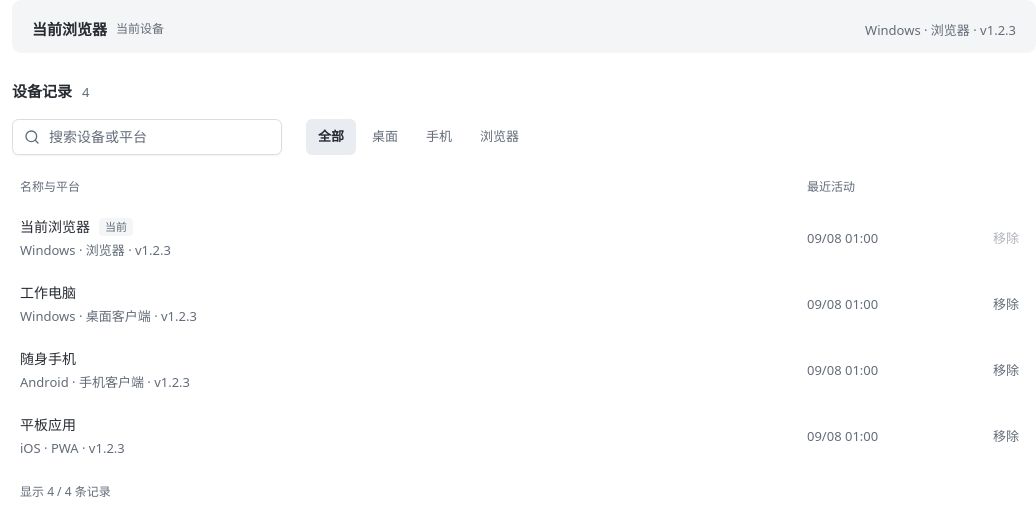
Test: ClientDevicesSettings › filters by actual runtime type and searches platform text with an empty-state reset
Click the button "桌面": (385, 137) [360,119,410,155]
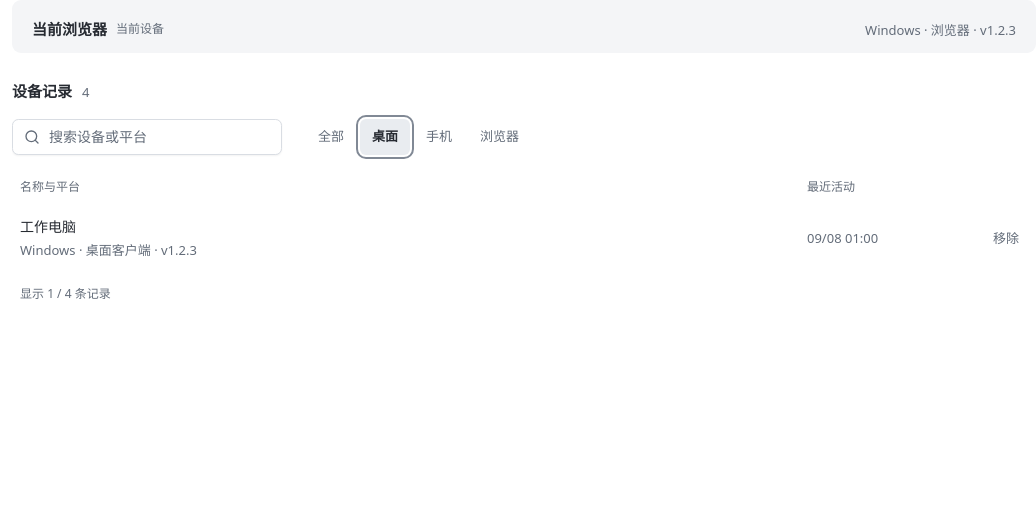
Expected: the text "工作电脑" is shown, [20,216,76,237]
Expected: the number of list items is 1, [12,206,1035,272]
Click the button "手机": (439, 137) [414,119,464,155]
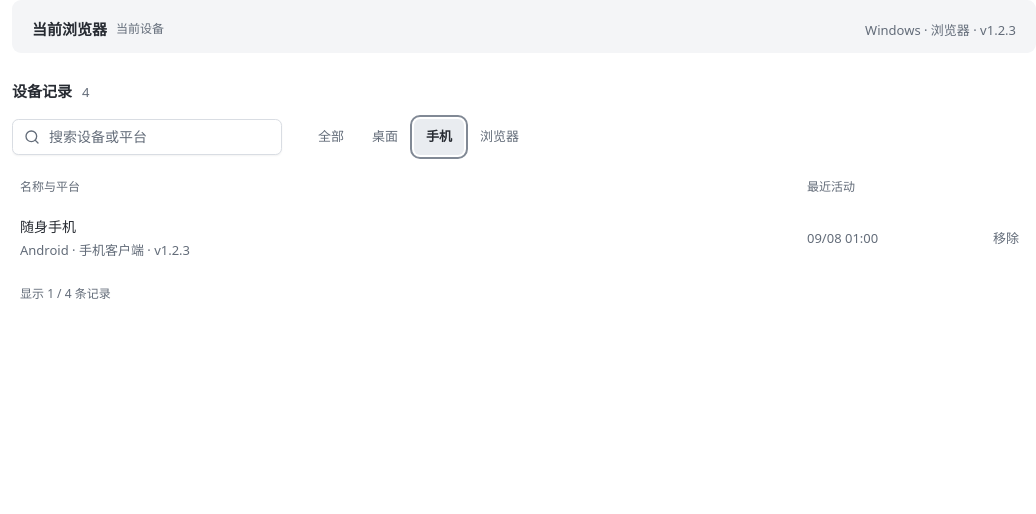
Expected: the number of list items is 1, [12,206,1035,272]
Expected: the text "随身手机" is shown, [20,216,76,237]
Click the button "浏览器": (500, 137) [468,119,531,155]
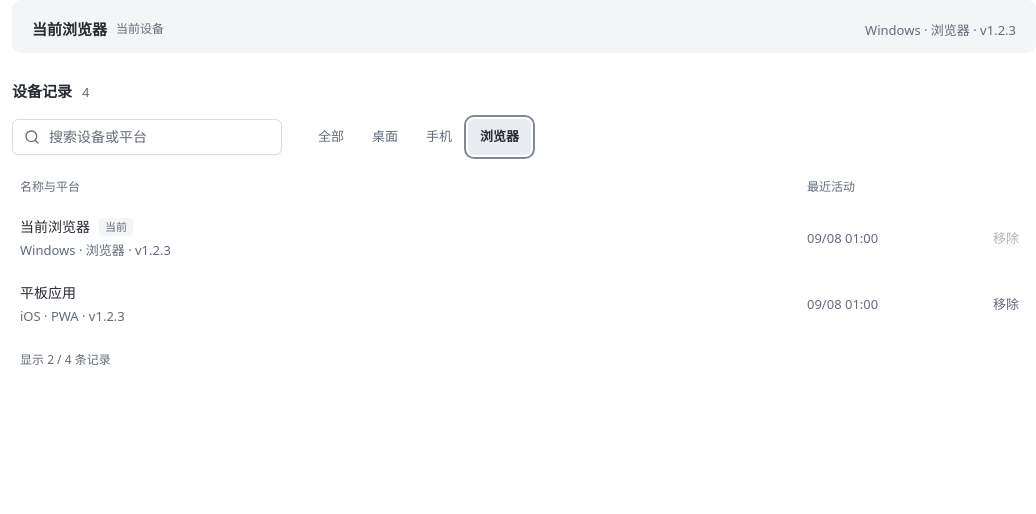
Expected: the number of list items is 2, [12,206,1035,272]; [12,272,1035,338]
In the search field named "搜索设备记录": (147, 137) [12,119,282,155], type "iOS"
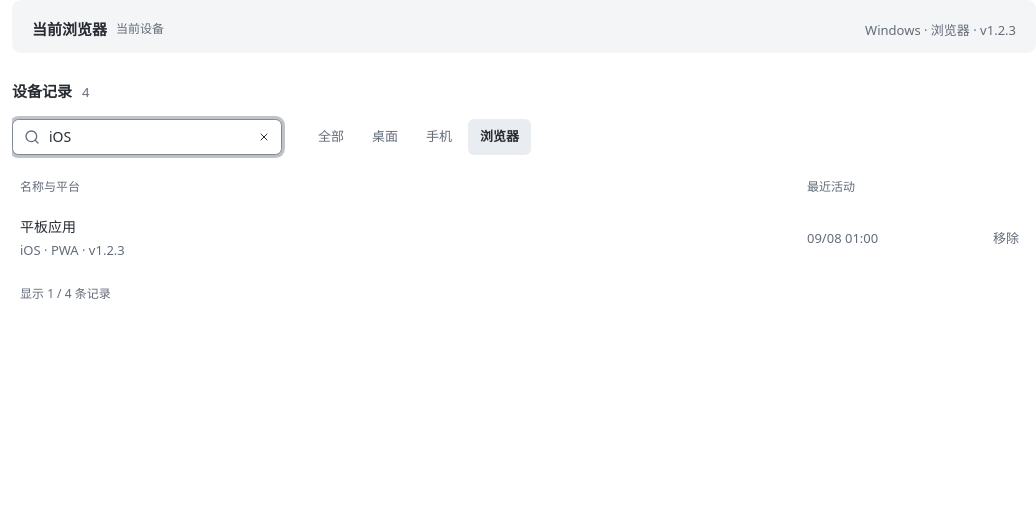
Expected: the text "平板应用" is shown, [20,216,76,237]
Expected: the number of list items is 1, [12,206,1035,272]
Replace the text in the search field named "搜索设备记录" with "不存在": (147, 137) [12,119,282,155]
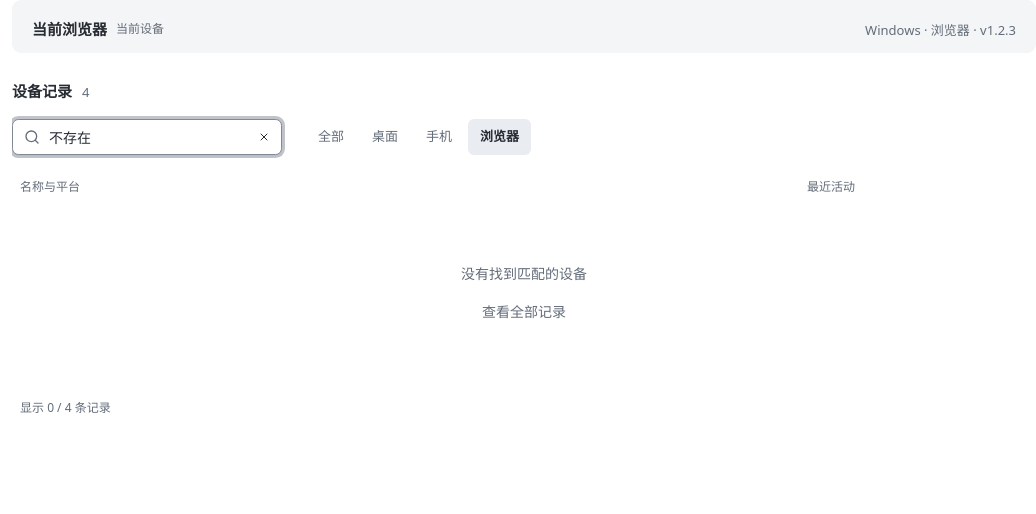
Expected: the text "没有找到匹配的设备" is shown, [461,263,587,284]
Click the button "查看全部记录": (524, 312) [471,296,577,328]
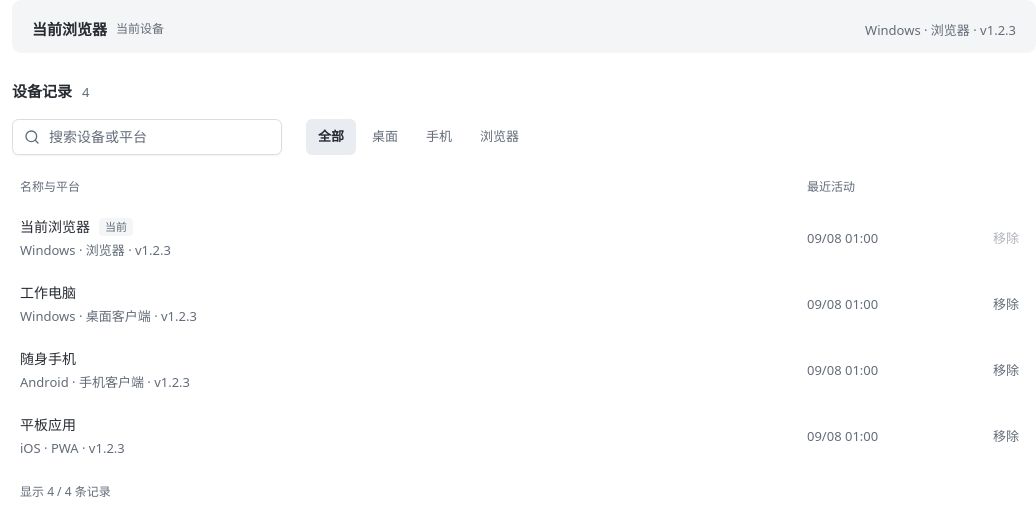
Expected: the number of list items is 4, [12,206,1035,272]; [12,272,1035,338]; [12,338,1035,404]; [12,404,1035,470]
